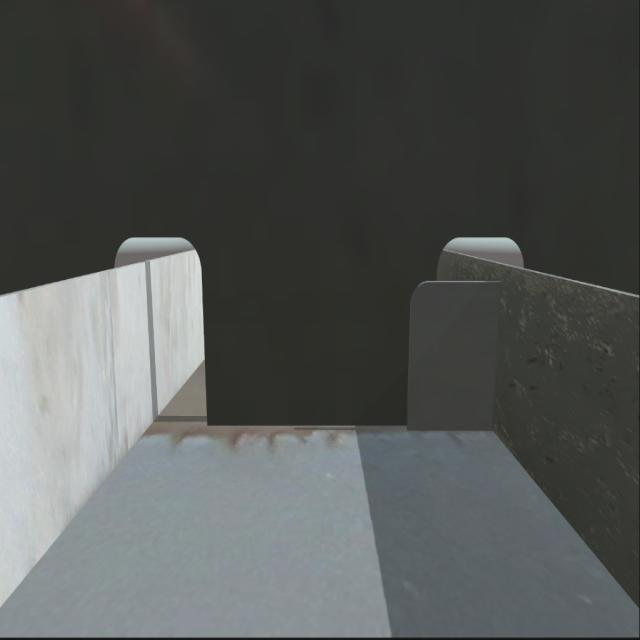fillet_yong_jeop_jang: (199, 413, 497, 439)
longi_yong_jeop_jang: (487, 281, 508, 433)
plate_CP05: (406, 283, 503, 433)
